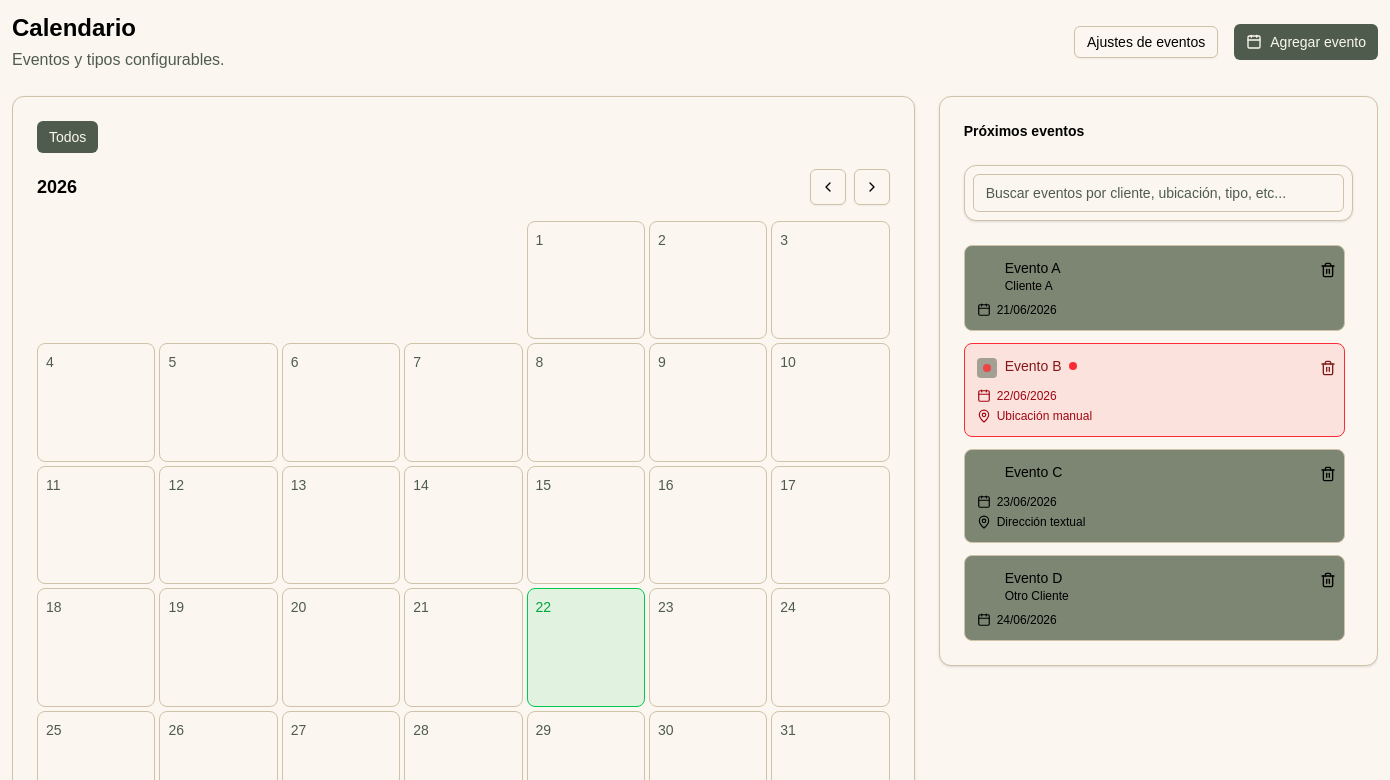
Scenario: CalendarView › search › filters by work address from workDataMap
Type "Cabildo" into the field with placeholder "Buscar eventos por cliente, ubicación, tipo, etc...". click: (1158, 193)
box: top-left (973, 174), bottom-right (1344, 212)
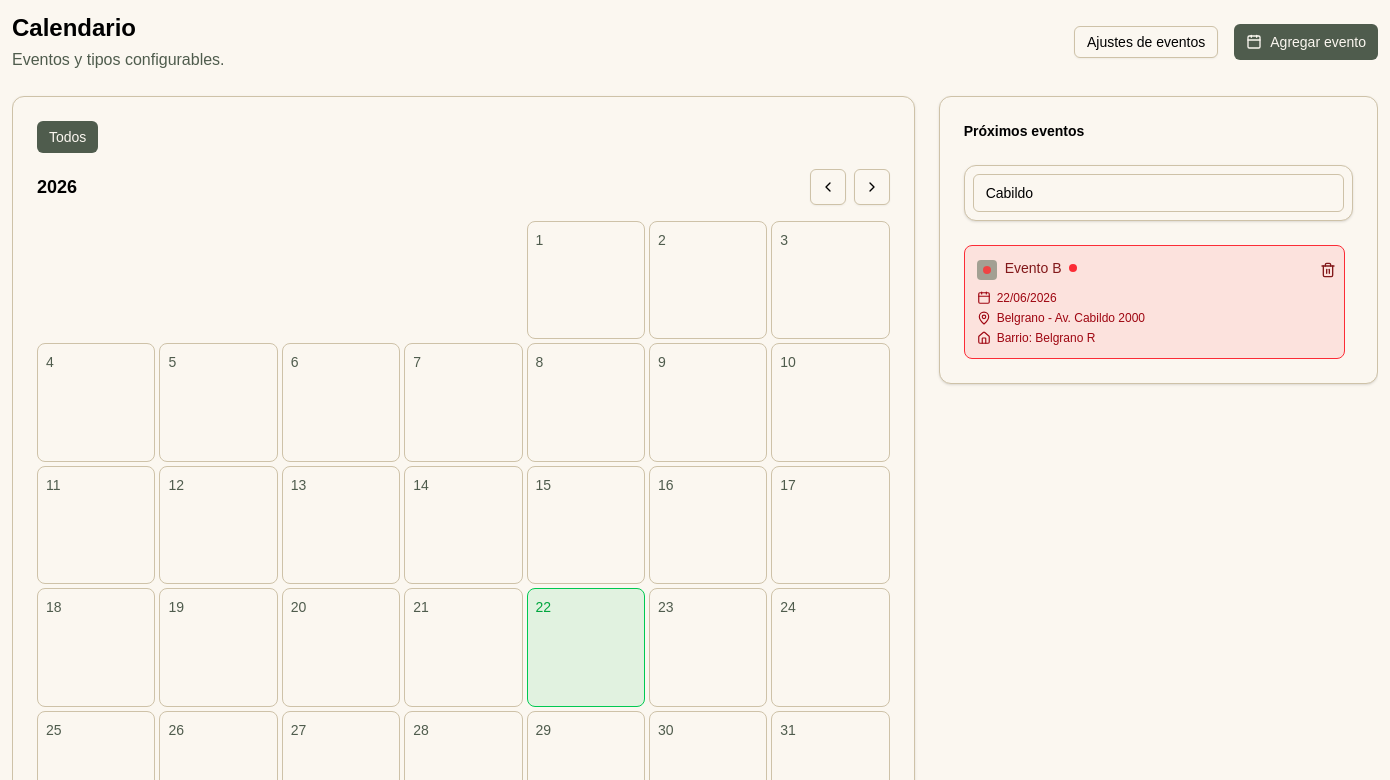
Result: the heading "Evento A" is gone
Result: the heading "Evento C" is gone
Result: the heading "Evento D" is gone
